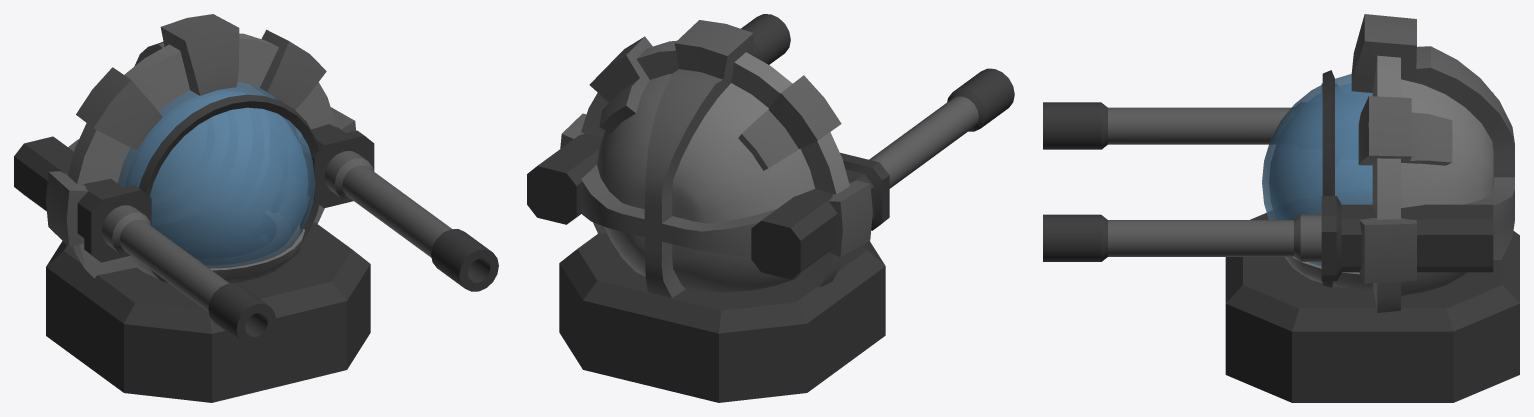
The model's file is Laser Weapon_Module_01.fbx.
The picture shows the model from 3 angles, left to right: view 1: azimuth 30°, elevation 25°; view 2: azimuth 150°, elevation 25°; view 3: azimuth 270°, elevation 25°; orthographic projection. The views are drawn at different scales.
Parts seen in each view (by area): view 1: Laser Weapon_01, Laser Weapon Base_01; view 2: Laser Weapon_01, Laser Weapon Base_01; view 3: Laser Weapon_01, Laser Weapon Base_01.
Boxes of the visible parts, x1,y1,x2,y2 form: Laser Weapon_01: [14, 14, 498, 345]; Laser Weapon Base_01: [46, 222, 370, 402]; Laser Weapon_01: [527, 14, 1014, 297]; Laser Weapon Base_01: [559, 232, 885, 402]; Laser Weapon_01: [1043, 14, 1514, 312]; Laser Weapon Base_01: [1225, 213, 1519, 402].
Bounding box in the file's own units: 463 × 464 × 635.
